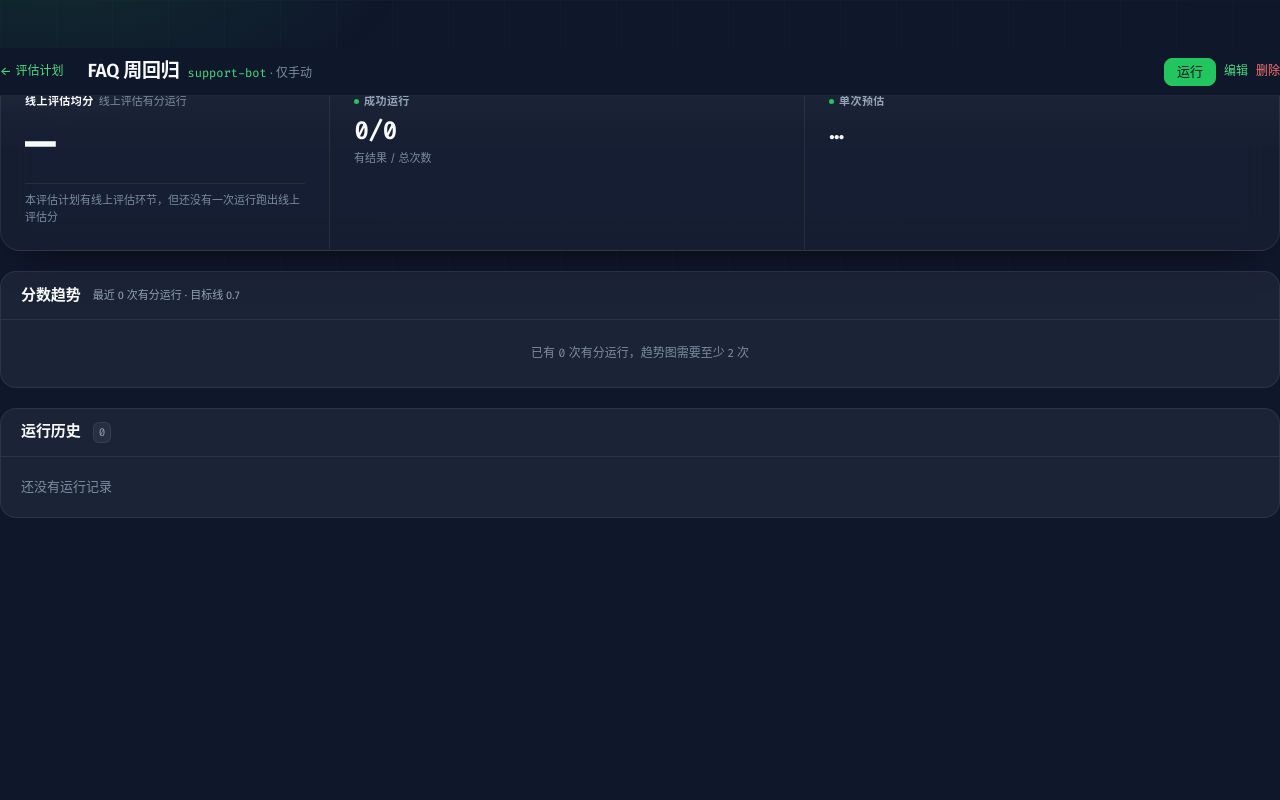
Scenario: PlanDetailPage 删除流程（ConfirmCard 替代 window.confirm） › 删除失败：deleteError 照旧显示，按钮从「删除中…」恢复
Check: the text "FAQ 周回归" is shown, box 88,59 -> 180,82
Click the button with test id "plan-delete" at {"x": 1268, "y": 72}, box 1256,63 -> 1279,80
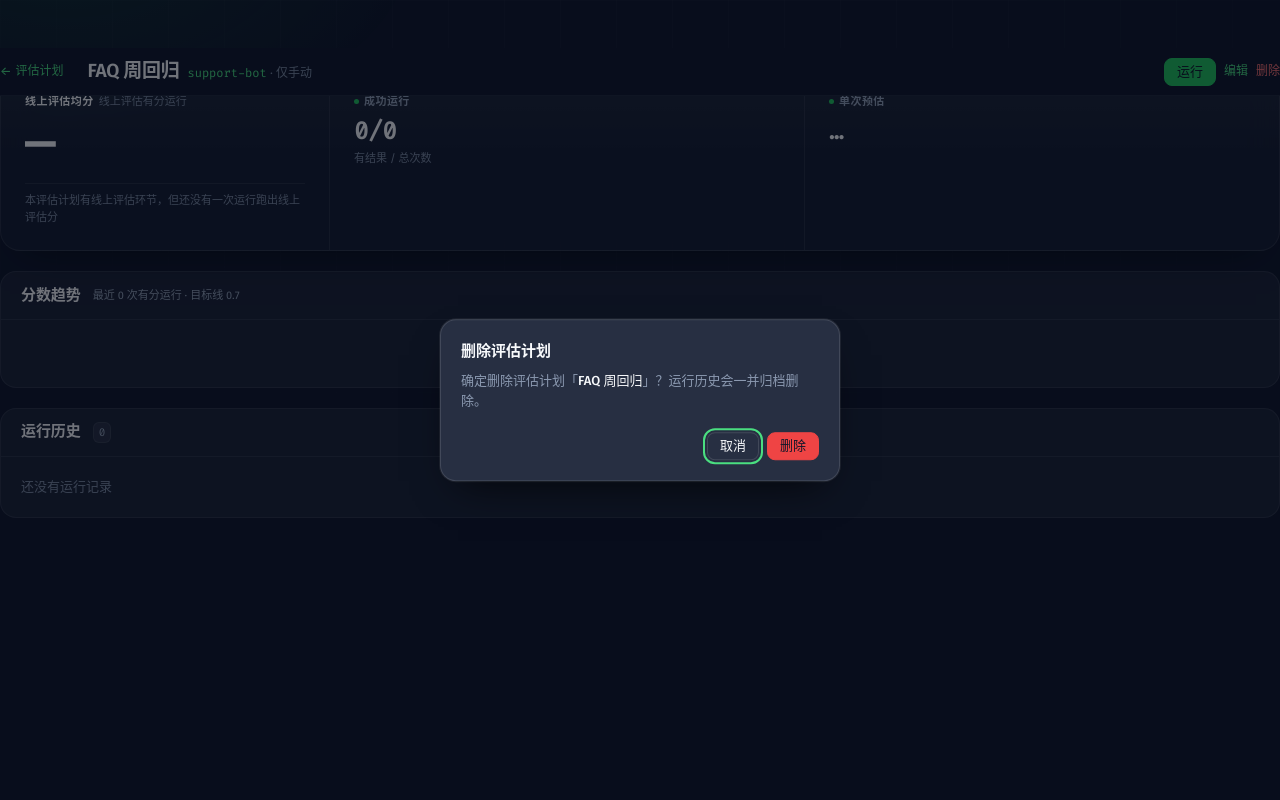
Click the button with test id "confirm-card-ok" at {"x": 793, "y": 446}, box 767,432 -> 819,460
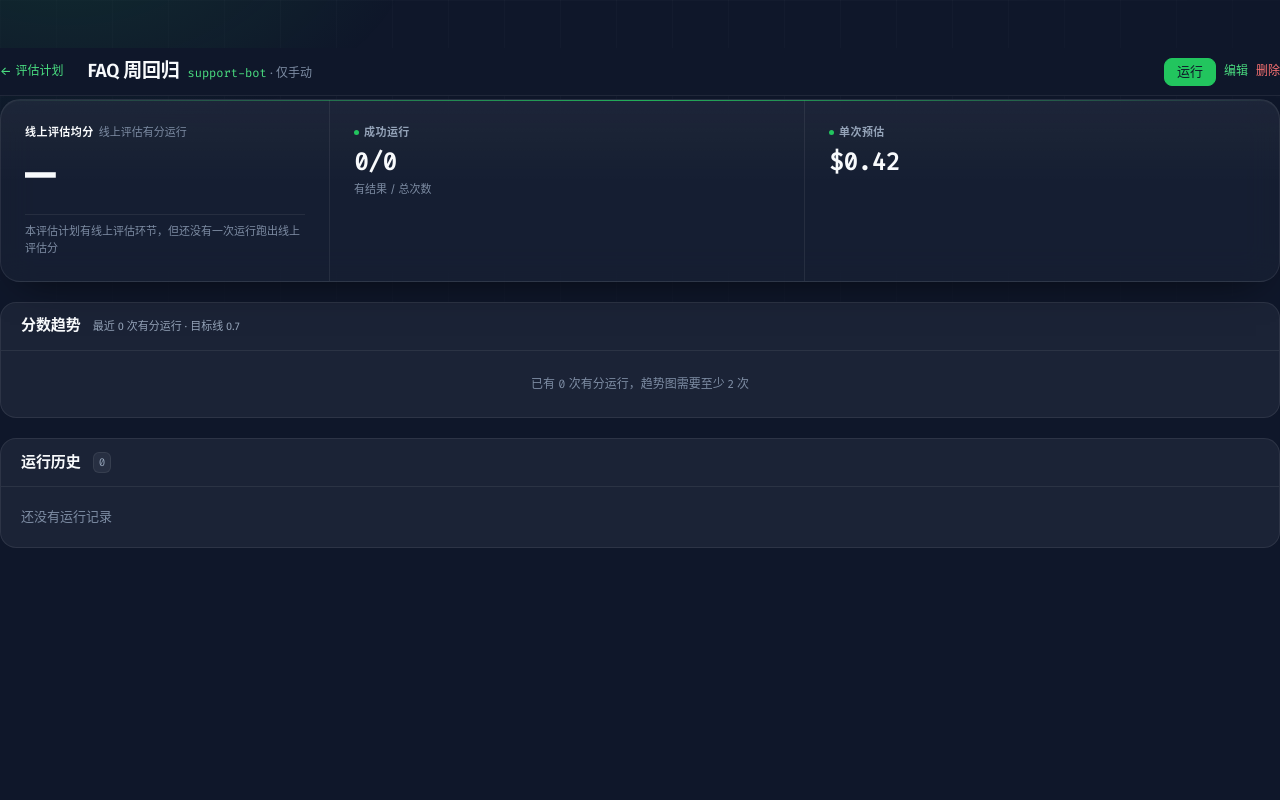
Check: the button with test id "plan-delete" is enabled, box 1256,63 -> 1279,80
Check: the text with test id "plan-delete-error" reads "后端拒绝：方案被引用", box 0,70 -> 120,84
